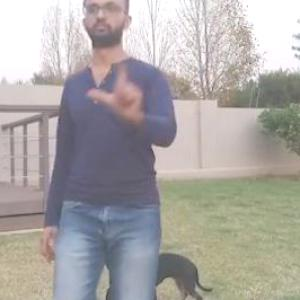land_hand: (87, 48, 148, 116)
